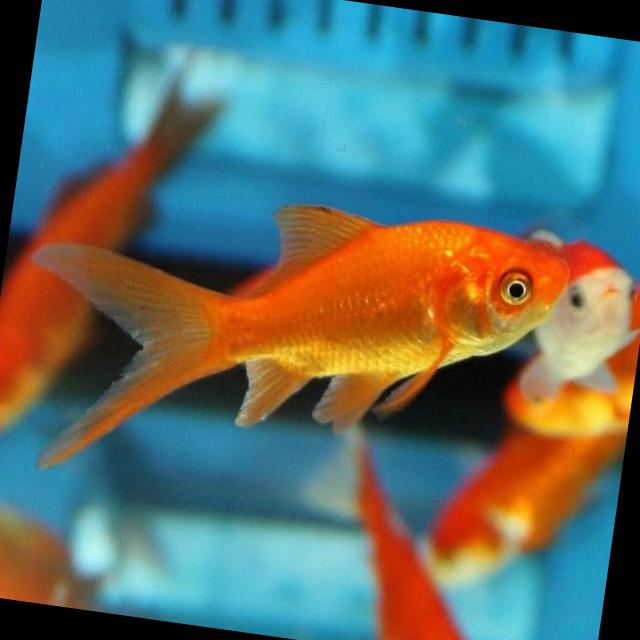GoldFish: (4, 149, 576, 532)
